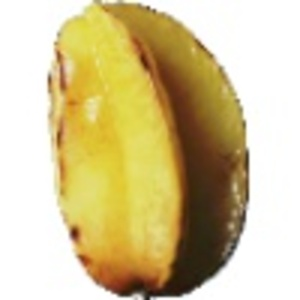carambola: (47, 1, 251, 300)
